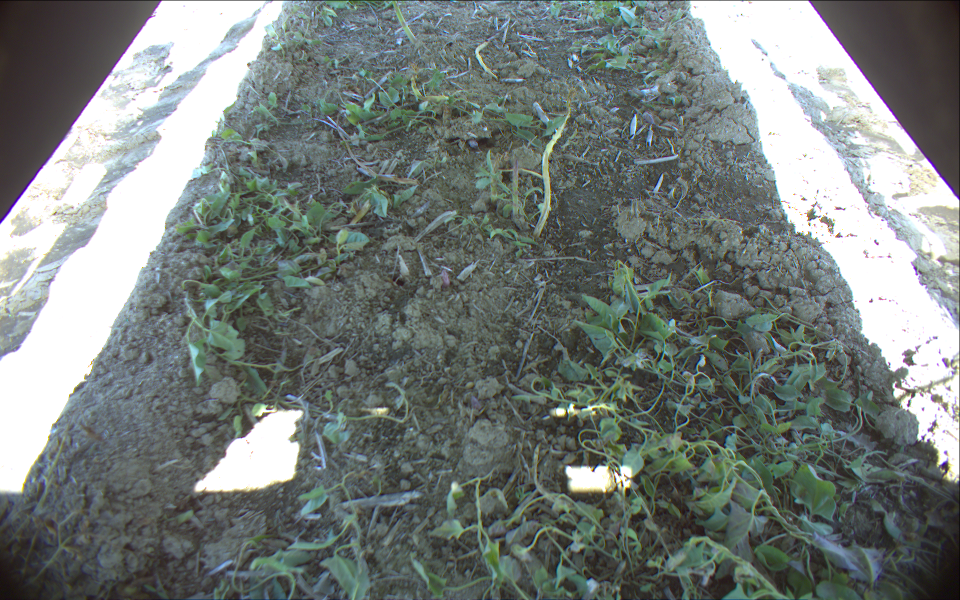aspa: (532, 102, 574, 240), (387, 1, 421, 50), (506, 150, 522, 221)
